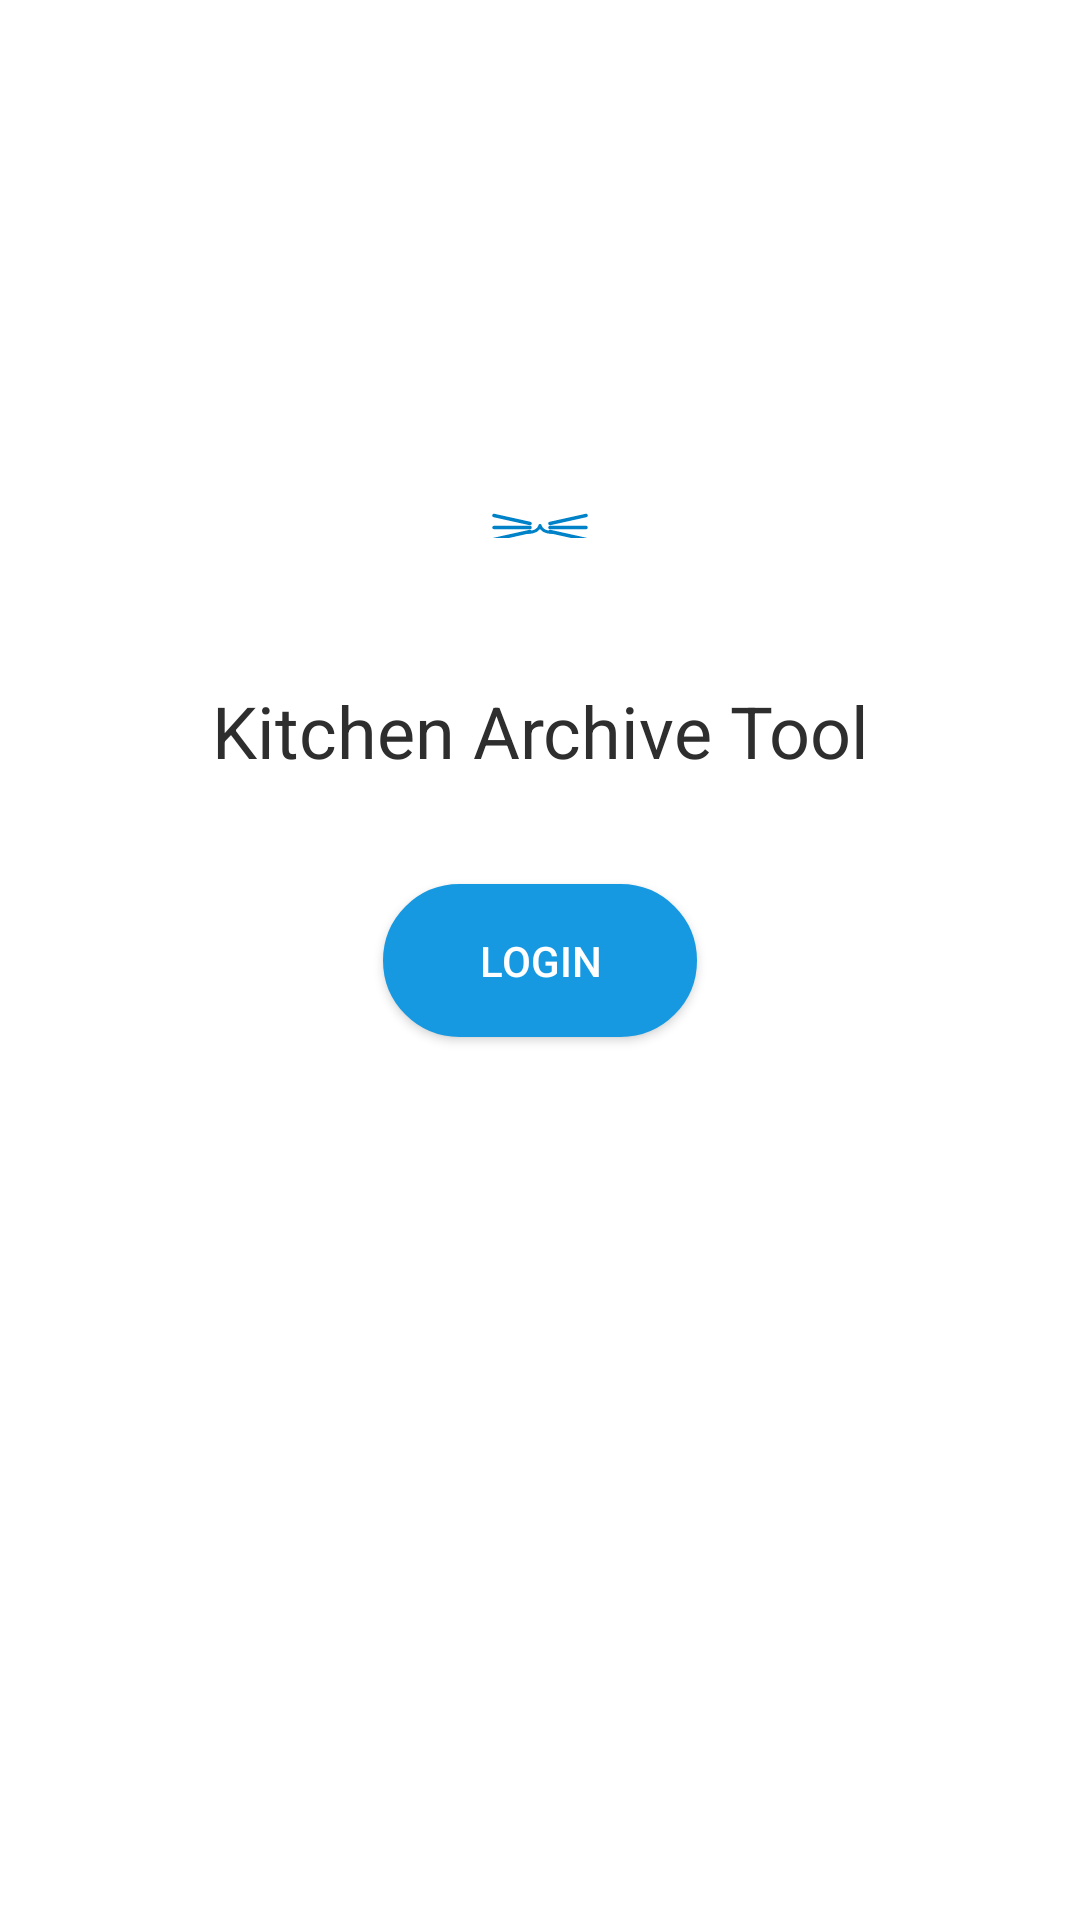

Where icons sit on this 1080*1920 app screen, as (x1, y1, x2, y2):
appicon unscaled: (492, 513, 588, 538)
